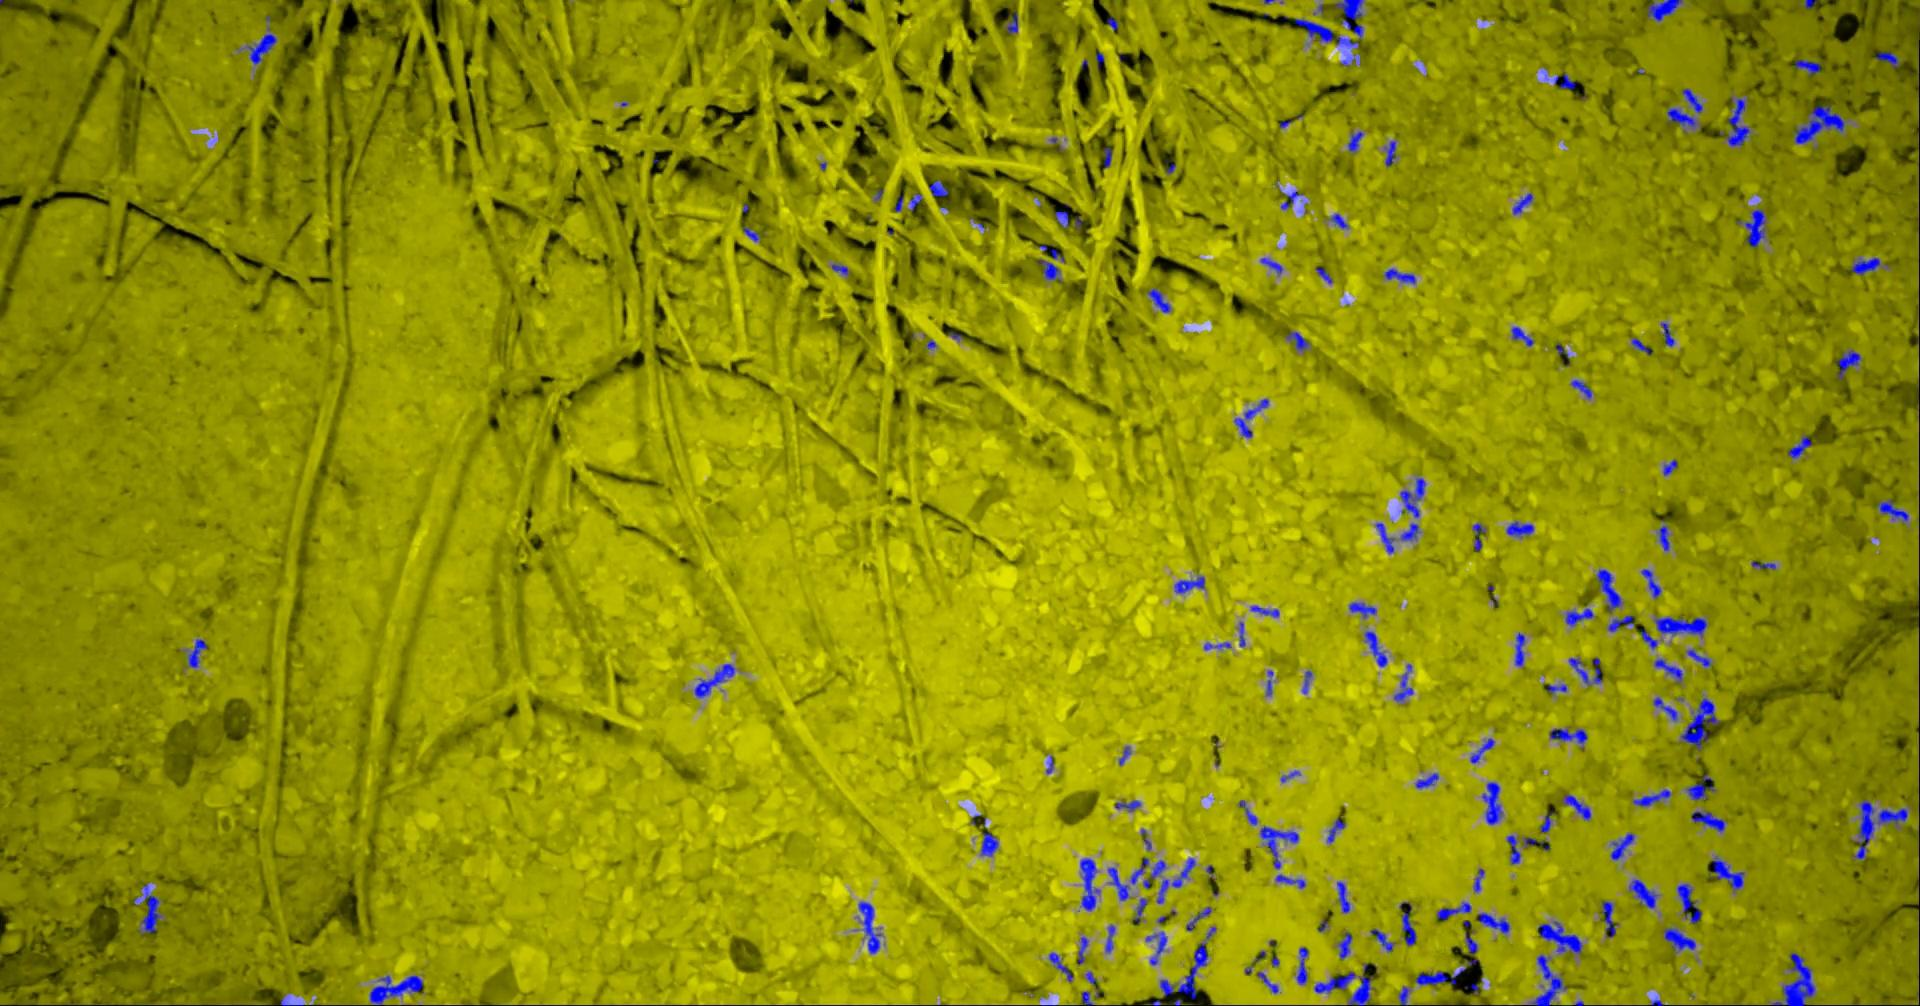ant: (1851, 800, 1907, 859), (1159, 942, 1208, 998), (1771, 951, 1815, 1005), (1680, 697, 1719, 749), (1794, 104, 1844, 144), (1156, 857, 1195, 903), (1531, 954, 1566, 1005), (1258, 826, 1298, 868), (370, 976, 423, 1005), (1537, 921, 1582, 953), (1335, 0, 1363, 51), (1233, 398, 1269, 437), (695, 663, 734, 697), (1724, 97, 1749, 146), (858, 901, 881, 953), (1708, 857, 1743, 889), (1596, 569, 1622, 612), (138, 883, 160, 934), (246, 27, 276, 64), (1736, 210, 1765, 246), (1676, 883, 1702, 923), (1399, 478, 1425, 517), (1079, 857, 1098, 909), (1655, 616, 1705, 635), (1294, 18, 1332, 42), (1568, 657, 1603, 683), (1313, 970, 1355, 992), (1415, 967, 1465, 984), (1482, 781, 1502, 824), (1628, 879, 1657, 908), (1549, 728, 1587, 749), (1393, 663, 1413, 701), (1647, 0, 1683, 22), (1364, 630, 1385, 666), (1663, 927, 1695, 951), (1347, 973, 1371, 1005), (1686, 774, 1714, 800), (1048, 951, 1073, 981), (1107, 868, 1129, 901), (1562, 794, 1590, 819), (980, 817, 998, 856), (1145, 931, 1166, 965), (1477, 912, 1509, 934), (1632, 789, 1670, 807), (1836, 351, 1860, 379), (1655, 658, 1683, 682), (1876, 499, 1909, 520), (1691, 810, 1724, 831), (1436, 901, 1470, 920), (1652, 696, 1677, 721), (1142, 860, 1164, 888), (1641, 568, 1661, 598), (1470, 738, 1495, 763), (1610, 833, 1634, 859), (1666, 107, 1695, 127), (187, 638, 207, 667), (1787, 434, 1811, 459), (1186, 906, 1210, 930), (1375, 522, 1394, 553), (1601, 901, 1617, 937), (1850, 257, 1879, 276), (1037, 259, 1062, 282), (1147, 288, 1170, 312), (1370, 929, 1394, 951), (1401, 912, 1416, 945), (1564, 608, 1592, 626), (1681, 88, 1702, 112), (1383, 268, 1415, 283), (1238, 800, 1257, 826), (1175, 575, 1204, 592), (1037, 244, 1064, 262), (1130, 857, 1148, 884), (1257, 970, 1277, 993), (1349, 602, 1377, 619), (1285, 332, 1309, 351), (1686, 648, 1710, 667), (1326, 817, 1343, 842), (1608, 615, 1634, 631), (1297, 946, 1308, 984), (1275, 874, 1305, 888), (1794, 58, 1820, 75), (1280, 191, 1302, 210), (1511, 326, 1533, 345), (1570, 379, 1591, 398), (1506, 835, 1520, 864), (1260, 257, 1283, 274), (1506, 521, 1533, 536), (1512, 193, 1531, 213), (1336, 882, 1349, 912), (1131, 898, 1147, 923), (1876, 51, 1898, 67), (1250, 605, 1279, 617), (1630, 337, 1651, 354), (1338, 931, 1351, 959), (1415, 772, 1437, 788), (1399, 522, 1418, 540), (1472, 523, 1484, 550), (1054, 203, 1068, 227), (1554, 72, 1575, 89), (928, 179, 949, 196), (1514, 633, 1524, 666), (1347, 131, 1363, 152), (1539, 810, 1554, 832), (1660, 323, 1674, 345), (1076, 936, 1087, 964), (1639, 630, 1657, 648), (1658, 520, 1669, 550), (742, 225, 759, 241), (1004, 11, 1017, 34), (1384, 141, 1396, 166), (1114, 800, 1140, 810), (1330, 213, 1349, 227), (1316, 267, 1331, 283), (1662, 459, 1677, 475), (1105, 923, 1114, 951), (1473, 868, 1483, 892), (1340, 55, 1360, 66), (1465, 932, 1477, 953), (1302, 669, 1310, 694), (1203, 641, 1230, 649), (1547, 683, 1566, 694), (1398, 986, 1408, 1005), (830, 263, 847, 274), (1751, 561, 1775, 569), (910, 193, 921, 210), (1238, 621, 1244, 647), (1266, 669, 1272, 695), (1081, 991, 1092, 1005), (1523, 837, 1543, 845), (1103, 147, 1111, 166)
